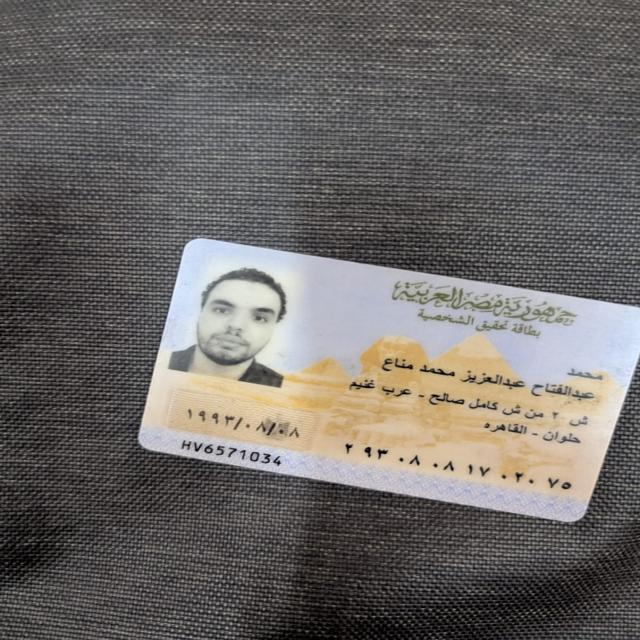id_card: (115, 232, 639, 533)
